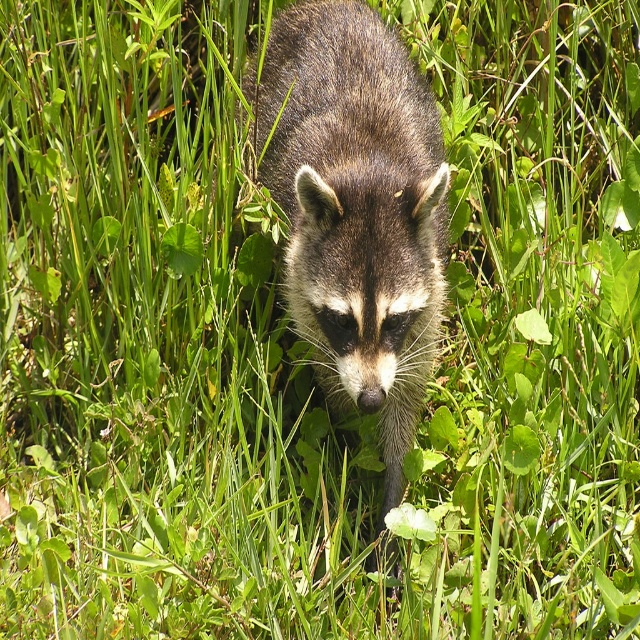Raccoon: (234, 0, 469, 577)
